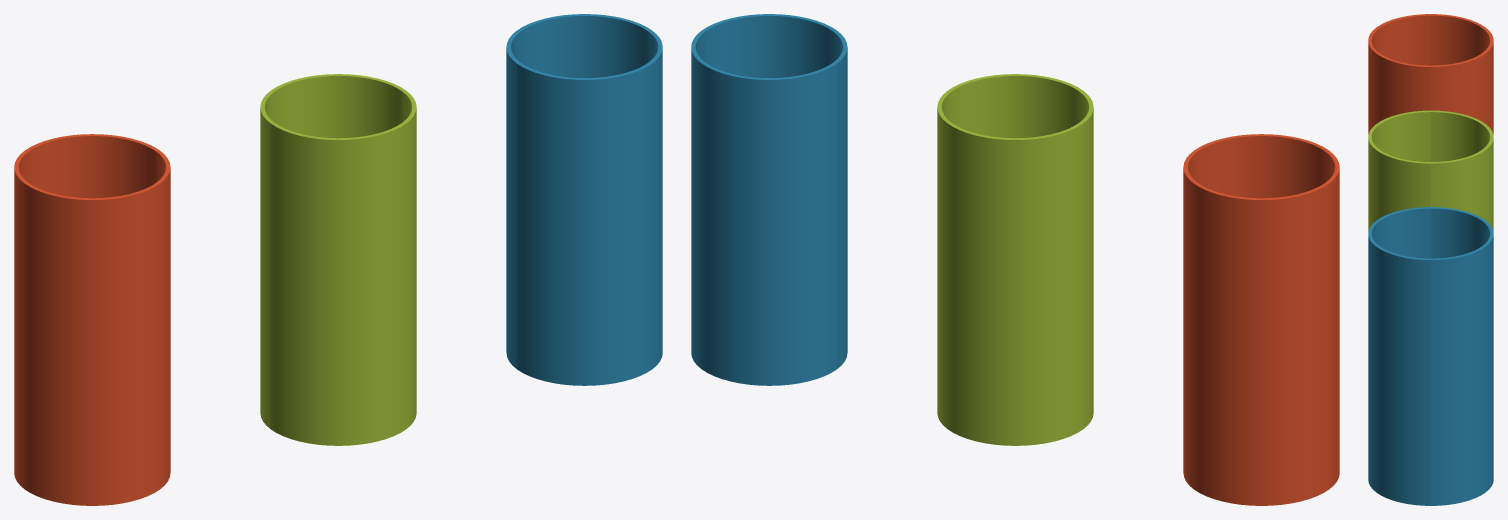
Rendered from multiple_effect_evaporator_pressure.glb.
3 renders of one model, left to right at view 1: azimuth 30°, elevation 25°; view 2: azimuth 150°, elevation 25°; view 3: azimuth 270°, elevation 25°, orthographic. The views are drawn at different scales.
Parts seen in each view (by area): view 1: pz__front, pz__back; view 2: pz__back, pz__front; view 3: pz__back, pz__front.
Boxes of the visible parts, <box> form: pz__front: <box>24,30,662,505</box>; pz__back: <box>14,14,651,488</box>; pz__back: <box>691,30,1329,505</box>; pz__front: <box>702,14,1339,488</box>; pz__back: <box>1431,14,1493,505</box>; pz__front: <box>1368,14,1430,505</box>.
Size of the model in its own units: 4.08 by 1.9 by 0.88.
